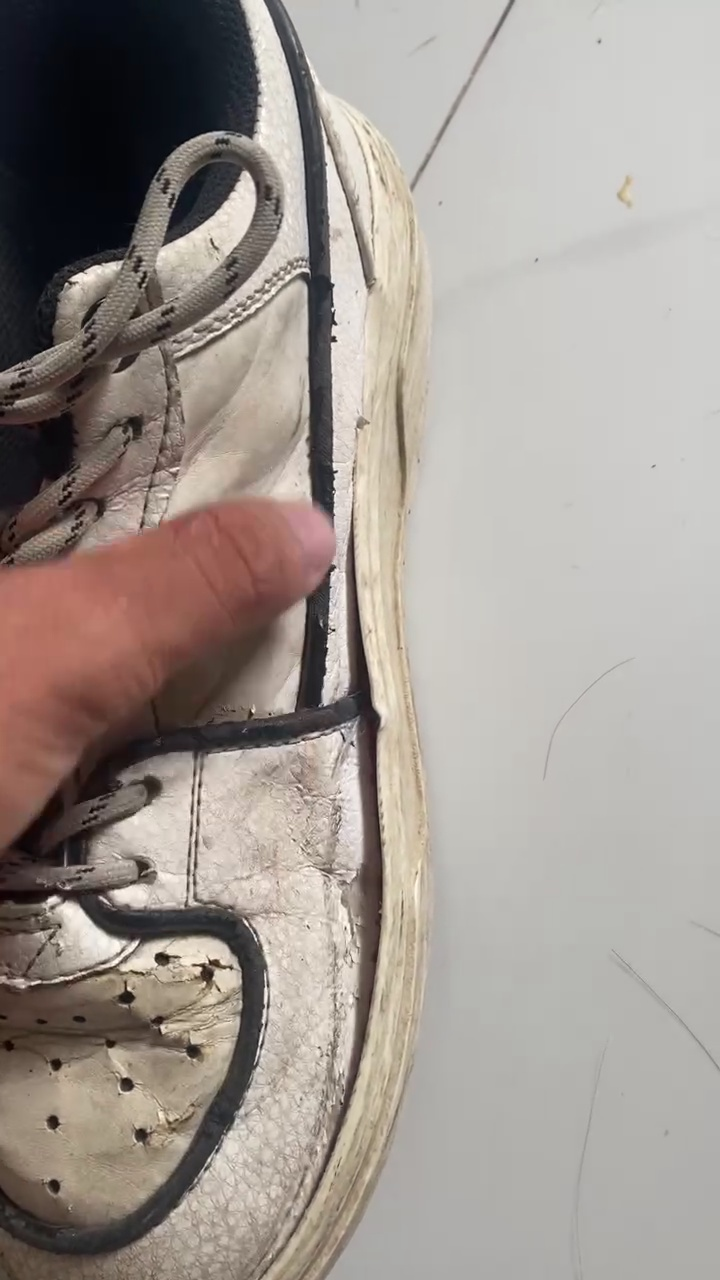bonding: (321, 592, 392, 1059)
